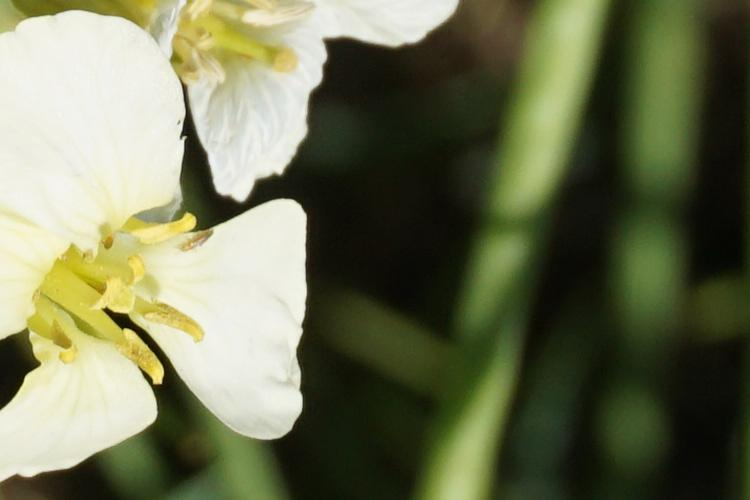white: (2, 13, 342, 472), (115, 1, 454, 196)
